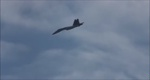maybay_muctieu: (51, 19, 85, 36)
